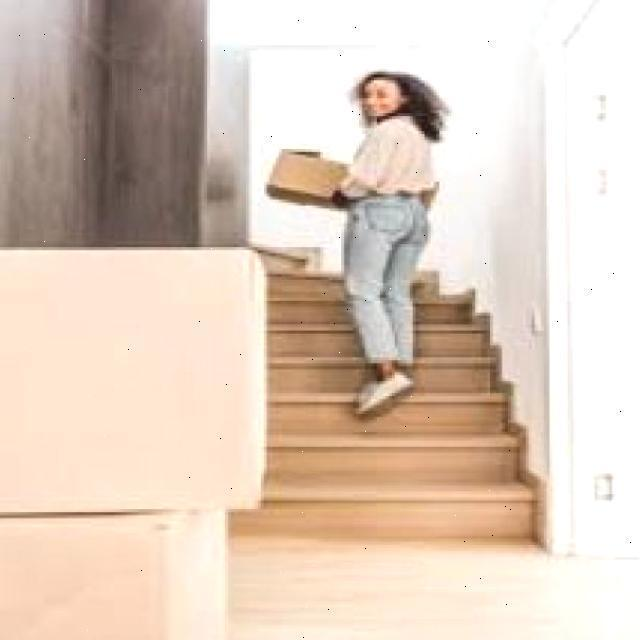stair: (261, 298, 534, 548)
